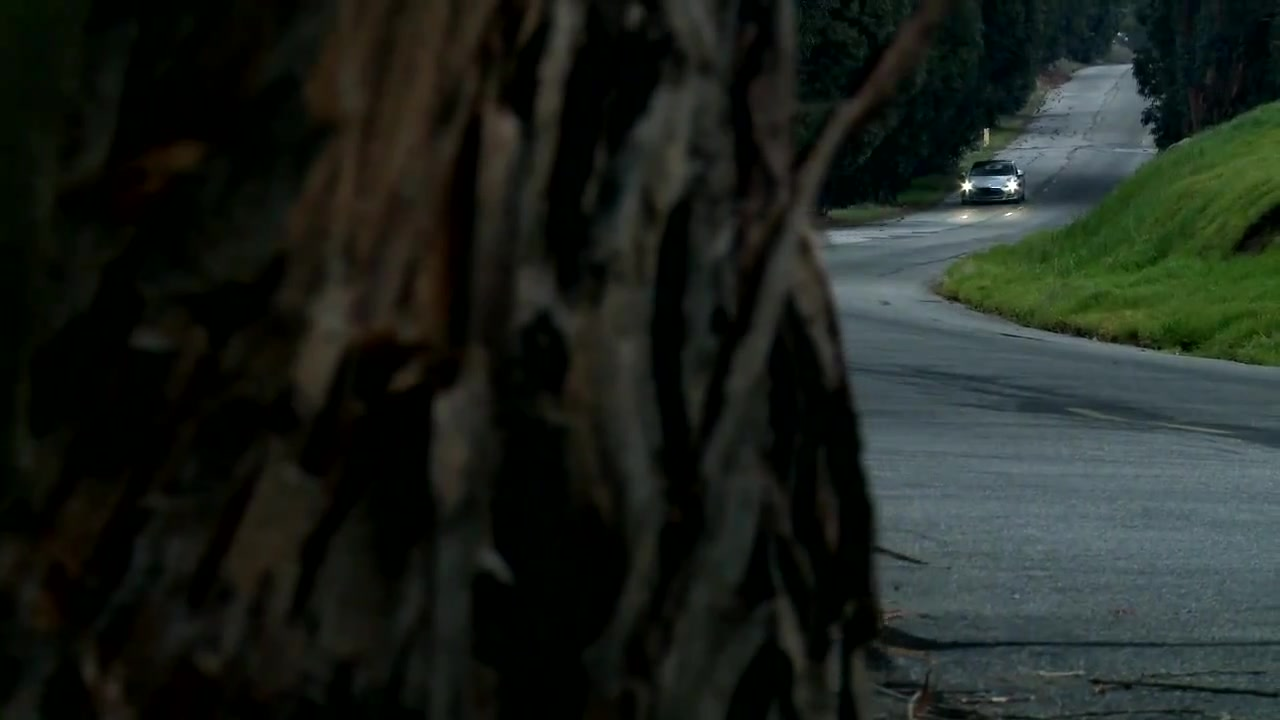car: (964, 157, 1031, 207)
